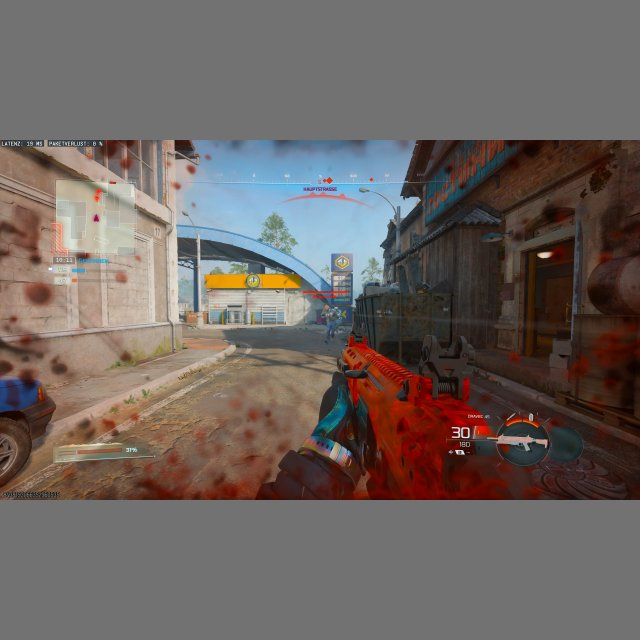player: (318, 304, 343, 344)
